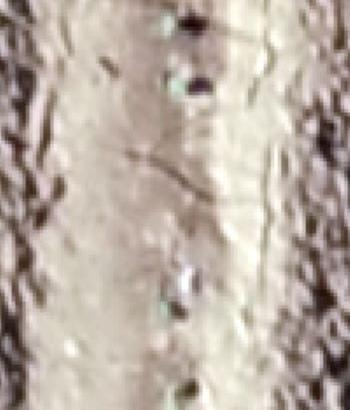cotton: (170, 77, 188, 97), (159, 302, 171, 323), (164, 15, 177, 34)
